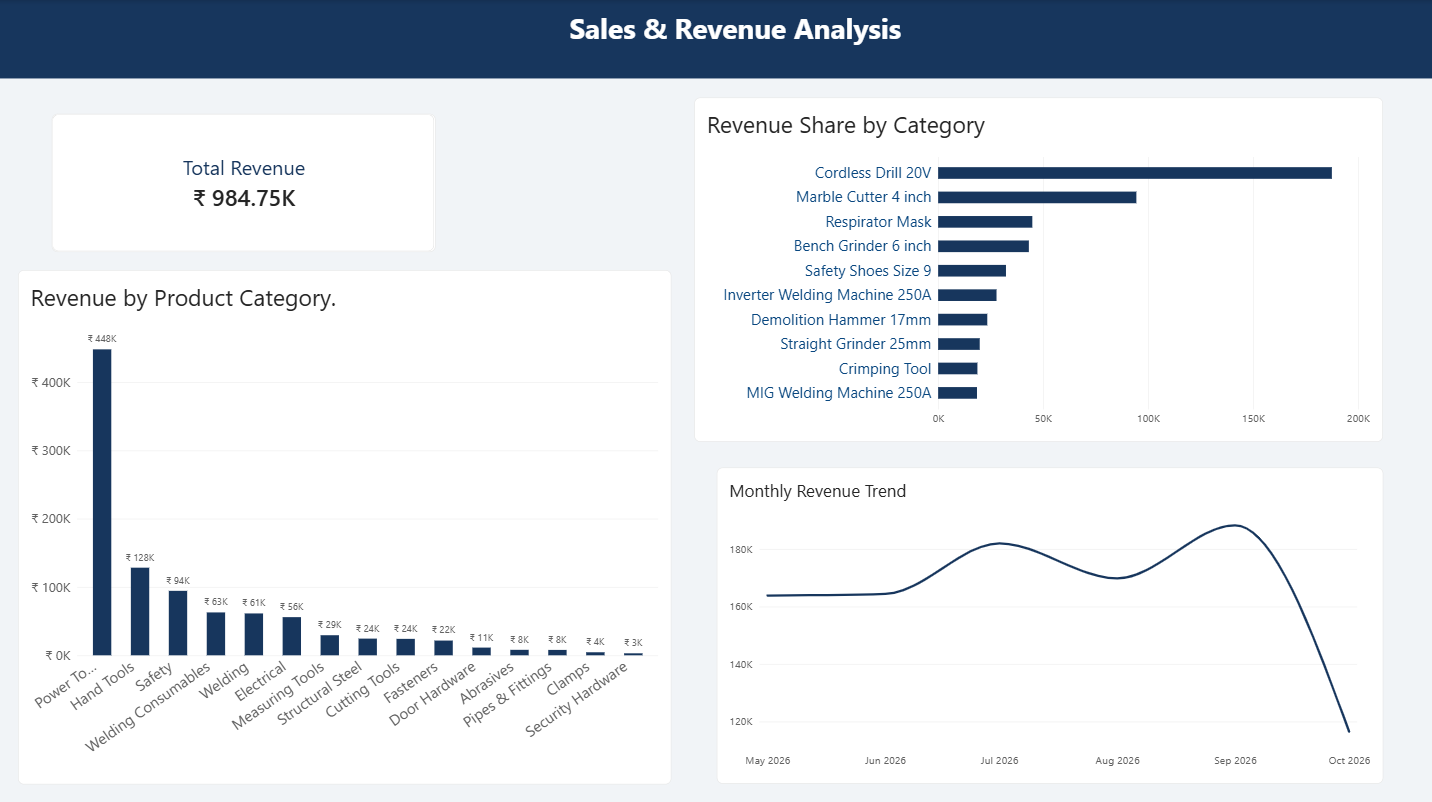

Layout of this report page (visuals, bound fields, positions):
{"tool":"powerbi","page":{"name":"Sales & Revenue Analysis.","canvas":[1920,1080],"ordinal":4},"visuals":[{"type":"cardVisual","fields":{"Data":["MySQL database.Total Revenue"]},"box":[72.5,152.5,512.5,185],"z":0},{"type":"clusteredColumnChart","title":"Revenue by Product Category.","fields":{"Category":["product.category"],"Y":["MySQL database.Total Revenue"]},"box":[27.5,360,872.5,687.5],"z":1000},{"type":"lineChart","title":"Monthly Revenue Trend","fields":{"Category":["transactions.transaction_timestamp.Variation.Date Hierarchy.Year","transactions.transaction_timestamp.Variation.Date Hierarchy.Month"],"Y":["MySQL database.Total Revenue"]},"box":[960,625,890,422.5],"z":2000},{"type":"textbox","box":[960,795,860,165],"z":3000},{"type":"textbox","box":[0,40,795,70],"z":4000},{"type":"clusteredBarChart","title":"Revenue Share by Category","fields":{"Category":["product.Product name"],"Y":["MySQL database.Total Revenue"]},"box":[930,130,920,460],"z":4001},{"type":"shape","title":"Sales & Revenue Analysis in bold white text.","box":[0,0,1920,105],"z":4002},{"type":"textbox","box":[990,930,860,150],"z":4003},{"type":"textbox","box":[990,930,860,150],"z":4004},{"type":"textbox","box":[990,930,860,150],"z":4005},{"type":"textbox","box":[397.5,12.5,1185,80],"z":4006}]}

Visuals, with their boxes in screenshot pixels (x1, y1, x2, y2), scaled from the page's 1920x1080 canvas onto the 1432x802 screenshot:
cardVisual - MySQL database.Total Revenue: l=54, t=113, r=436, b=251
"Revenue by Product Category." clusteredColumnChart: l=21, t=267, r=671, b=778
"Monthly Revenue Trend" lineChart: l=716, t=464, r=1380, b=778
textbox: l=716, t=590, r=1357, b=713
textbox: l=0, t=30, r=593, b=82
"Revenue Share by Category" clusteredBarChart: l=694, t=97, r=1380, b=438
"Sales & Revenue Analysis in bold white text." shape: l=0, t=0, r=1431, b=78
textbox: l=738, t=691, r=1380, b=801
textbox: l=738, t=691, r=1380, b=801
textbox: l=738, t=691, r=1380, b=801
textbox: l=296, t=9, r=1180, b=69
